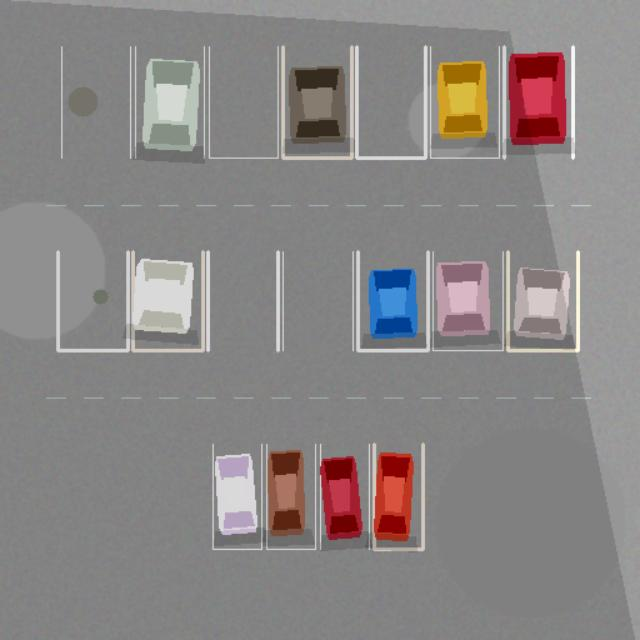space-empty: (61, 46, 130, 158), (209, 46, 278, 158), (356, 46, 425, 158), (57, 251, 127, 350), (207, 251, 277, 350), (283, 251, 353, 350)
space-occupied: (135, 46, 204, 158), (282, 46, 351, 158), (430, 46, 499, 158), (504, 46, 572, 158), (133, 251, 203, 350), (357, 251, 427, 350), (433, 251, 503, 350), (507, 251, 577, 350), (212, 444, 261, 549), (266, 444, 315, 549), (320, 444, 369, 549), (374, 444, 422, 549)
